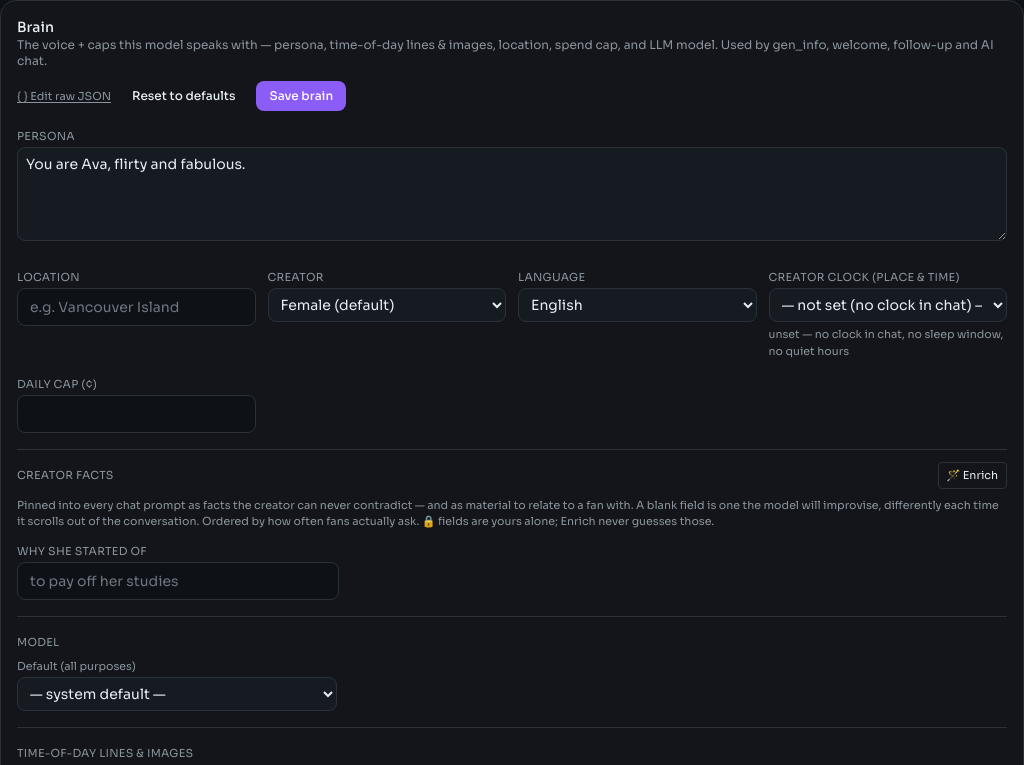
Test: the starter brain follows the SELECTED lane › relabels the canon the moment the dropdown moves, before any Save
Expected: the text "Why she started OF" is shown, [17,544,147,558]
Select "Male" in the dropdown titled "Whose voice this account writes in" at x=387, y=305, box [268,288,506,322]
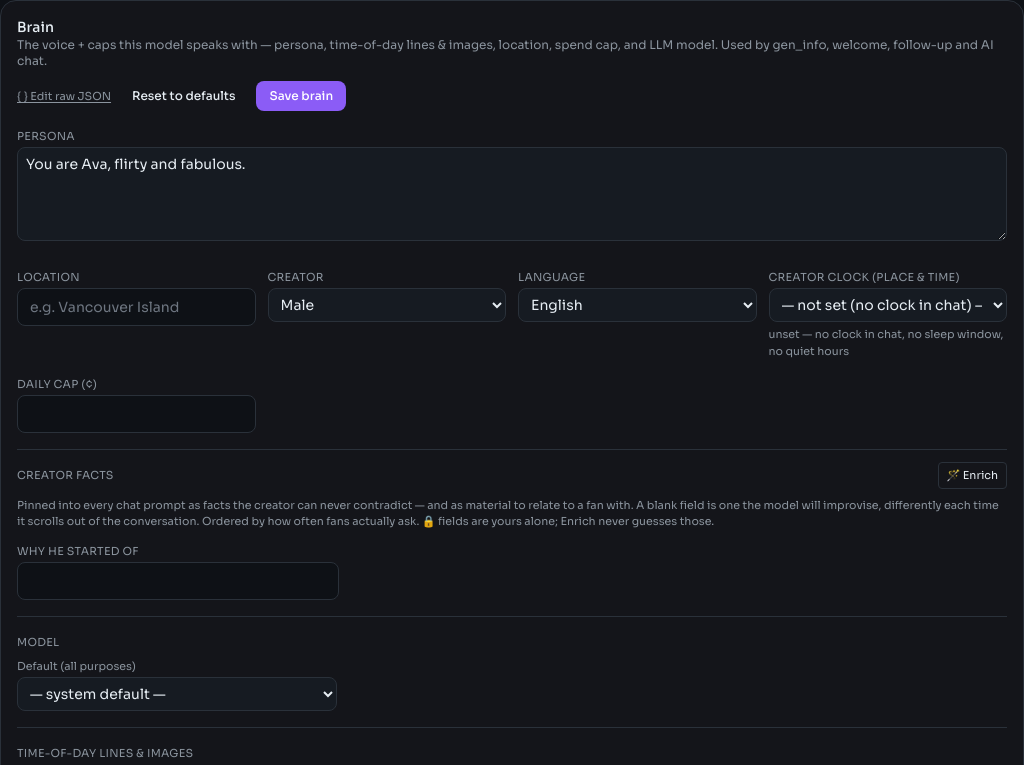
Result: the text "Why he started OF" is shown at [17,544,139,558]
Result: the text "Why she started OF" is gone
